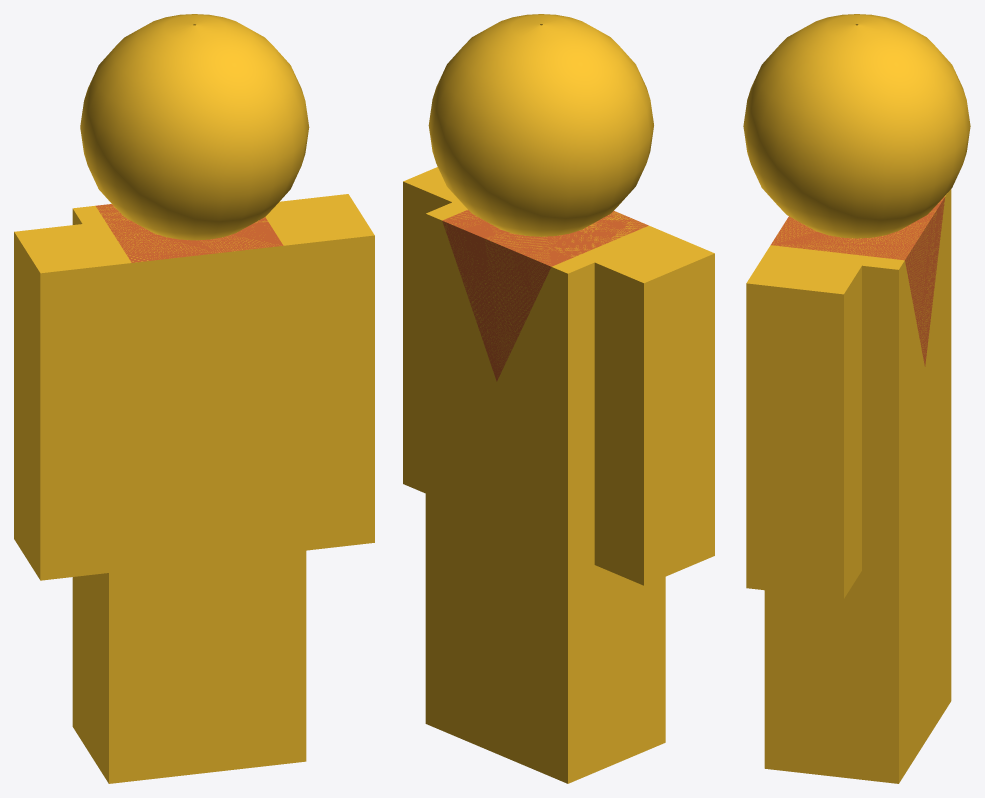
The model's file is duck.dae.
3 renders of one model, left to right at view 1: azimuth 30°, elevation 25°; view 2: azimuth 150°, elevation 25°; view 3: azimuth 270°, elevation 25°, orthographic.
Parts seen in each view (by area): view 1: group_0 (×2), Google_Guy; view 2: group_0 (×2), Google_Guy; view 3: group_0 (×2), Google_Guy.
Boxes of the visible parts, box(x1,y1,x2,y2) form: group_0 (×2): box(14, 194, 374, 783); Google_Guy: box(80, 14, 309, 240); group_0 (×2): box(403, 167, 714, 783); Google_Guy: box(428, 14, 653, 236); group_0 (×2): box(746, 189, 951, 783); Google_Guy: box(743, 14, 970, 238).
Size of the model in its own units: 30.54 by 19.4 by 67.14.
